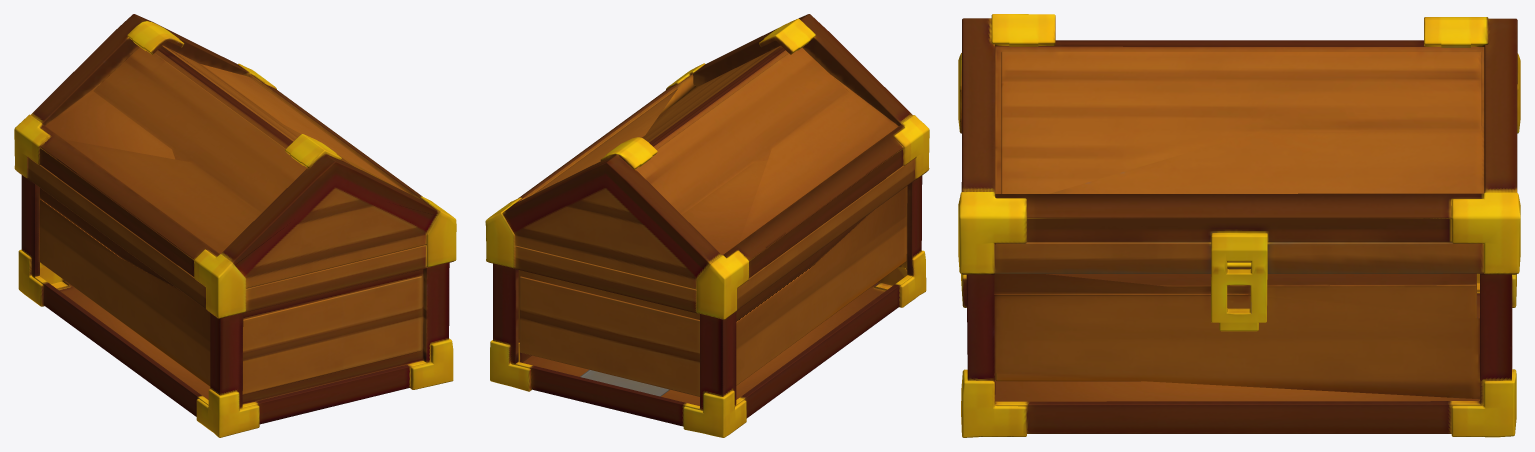
File: bau_novo.fbx
3 views of the same model, side by side, from view 1: azimuth 30°, elevation 25°; view 2: azimuth 150°, elevation 25°; view 3: azimuth 270°, elevation 25° (orthographic). The views are drawn at different scales.
Parts seen in each view (by area): view 1: tripo_65a5fc51_d9f5_4c91_b18b_da5dab73f763; view 2: tripo_65a5fc51_d9f5_4c91_b18b_da5dab73f763; view 3: tripo_65a5fc51_d9f5_4c91_b18b_da5dab73f763.
Boxes of the visible parts, <box> form: tripo_65a5fc51_d9f5_4c91_b18b_da5dab73f763: <box>14,14,456,437</box>; tripo_65a5fc51_d9f5_4c91_b18b_da5dab73f763: <box>485,14,929,437</box>; tripo_65a5fc51_d9f5_4c91_b18b_da5dab73f763: <box>958,14,1520,437</box>.
Size of the model in its own units: 0.6948 by 0.6792 by 0.9995.
Materials: 1 (1 with a texture image).
